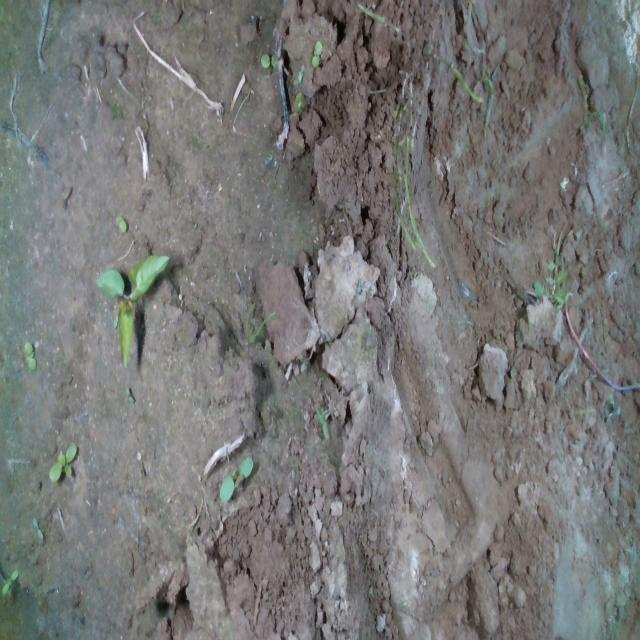weed: (94, 253, 170, 368), (218, 455, 254, 504), (47, 441, 77, 484), (1, 567, 19, 596), (22, 339, 36, 372), (310, 38, 322, 68), (259, 51, 279, 69), (32, 516, 44, 540), (115, 212, 127, 233), (125, 386, 135, 404), (298, 61, 304, 81)
